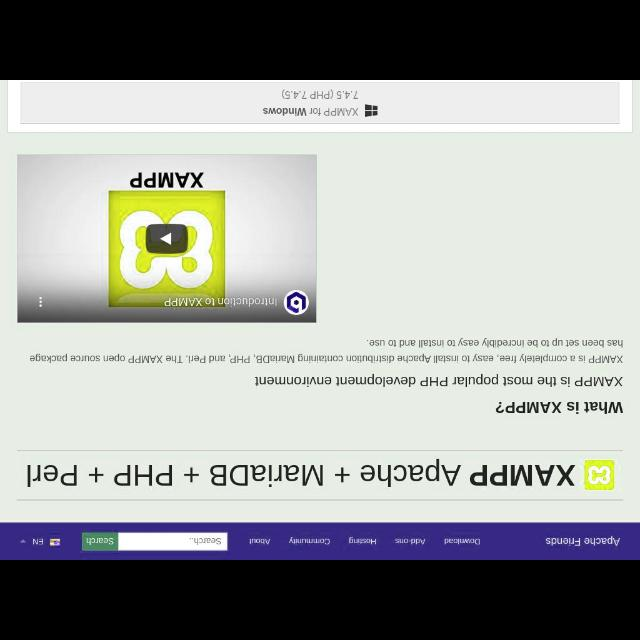icon: (362, 102, 378, 118), (18, 538, 27, 544)
image: (17, 153, 316, 321), (584, 460, 614, 492), (50, 537, 60, 547)
input: (118, 533, 228, 551)
spinner: (12, 528, 48, 556)
text: (21, 460, 575, 488), (28, 338, 624, 364), (253, 374, 622, 388), (261, 88, 359, 118), (494, 398, 624, 414), (546, 534, 620, 550), (288, 536, 329, 546), (444, 536, 482, 546), (184, 536, 222, 546), (394, 536, 426, 546), (348, 536, 378, 546), (248, 536, 270, 546), (32, 537, 44, 545)
textbutton: (82, 534, 118, 550)
toolbar: (1, 526, 640, 558)
